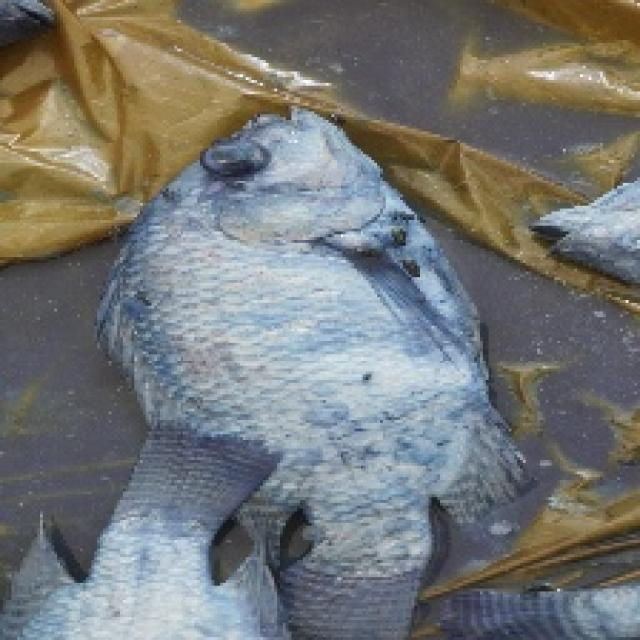Non-Fresh: (136, 106, 487, 502)
